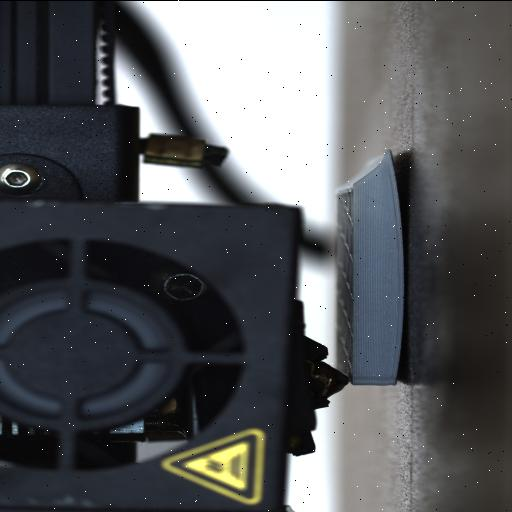warp: (378, 146, 412, 228), (382, 354, 408, 388)
